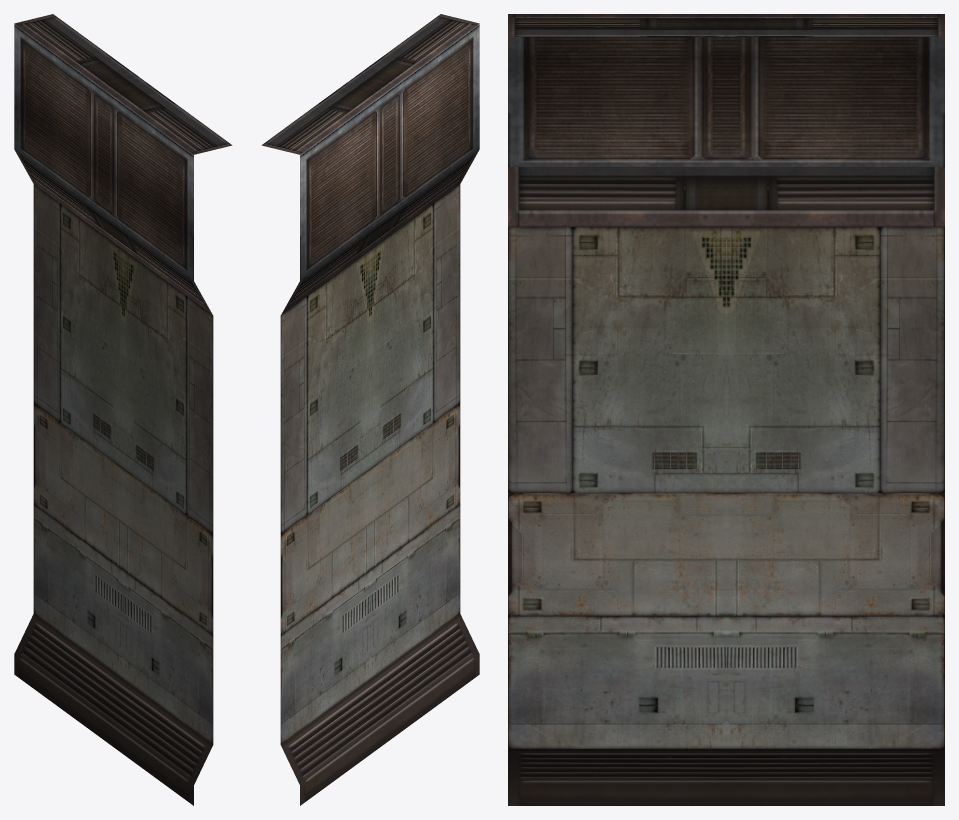
The model's file is Wall_High_new04.fbx.
3 views of the same model, side by side, from view 1: azimuth 30°, elevation 25°; view 2: azimuth 150°, elevation 25°; view 3: azimuth 270°, elevation 25° (orthographic). The views are drawn at different scales.
Visible parts, largest first — view 1: Wall_High_new04; view 2: Wall_High_new04; view 3: Wall_High_new04.
Boxes of the visible parts, <box> form: Wall_High_new04: <box>14,14,232,805</box>; Wall_High_new04: <box>261,14,479,805</box>; Wall_High_new04: <box>508,14,944,805</box>.
Bounding box in the file's own units: 25 × 400 × 200.
